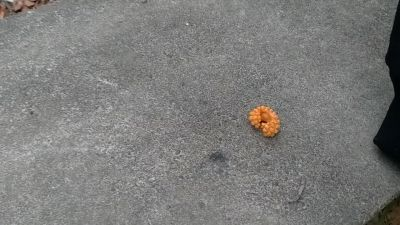eggs: (247, 104, 281, 136)
